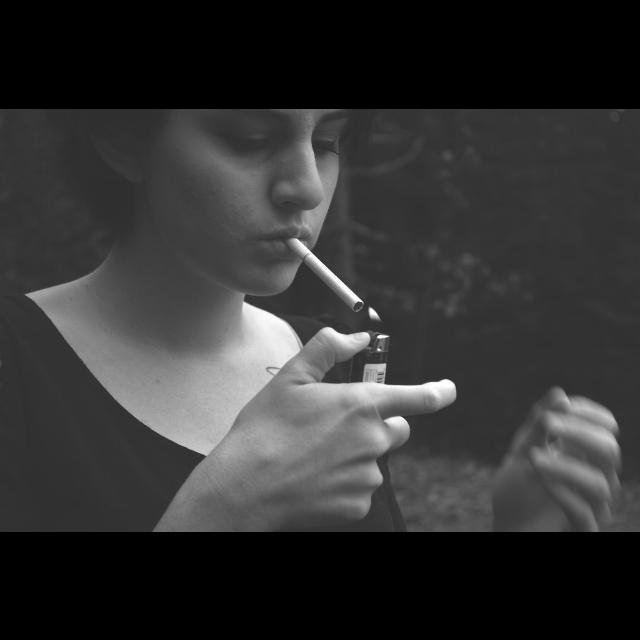rokok: (280, 230, 372, 312)
